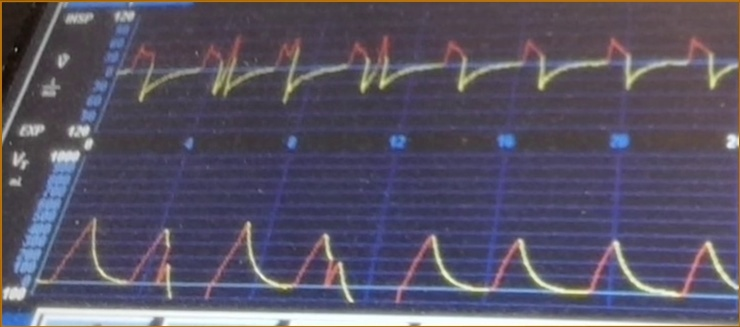Double_Triggering Flow: (122, 22, 734, 129)
Double_Triggering Volume: (57, 193, 738, 306)
